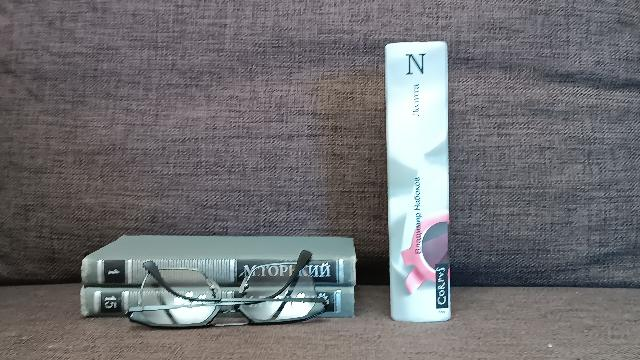book-s-spine: (384, 41, 451, 322), (80, 288, 354, 319), (82, 259, 356, 287)
